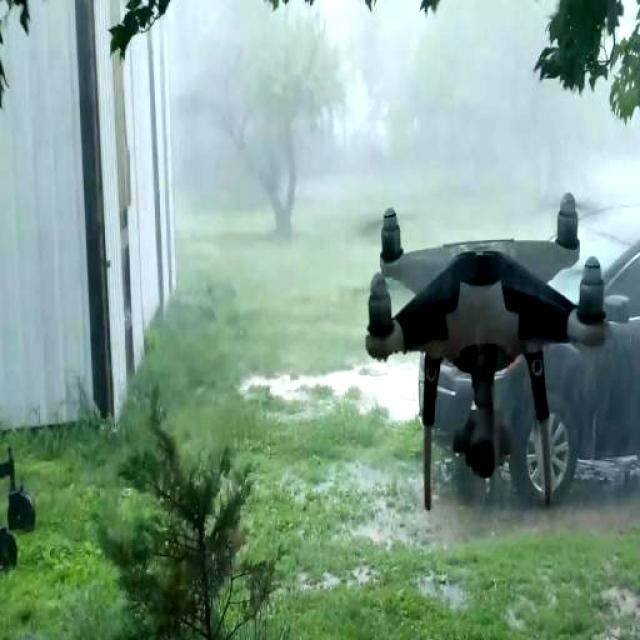bird: (358, 181, 614, 526)
